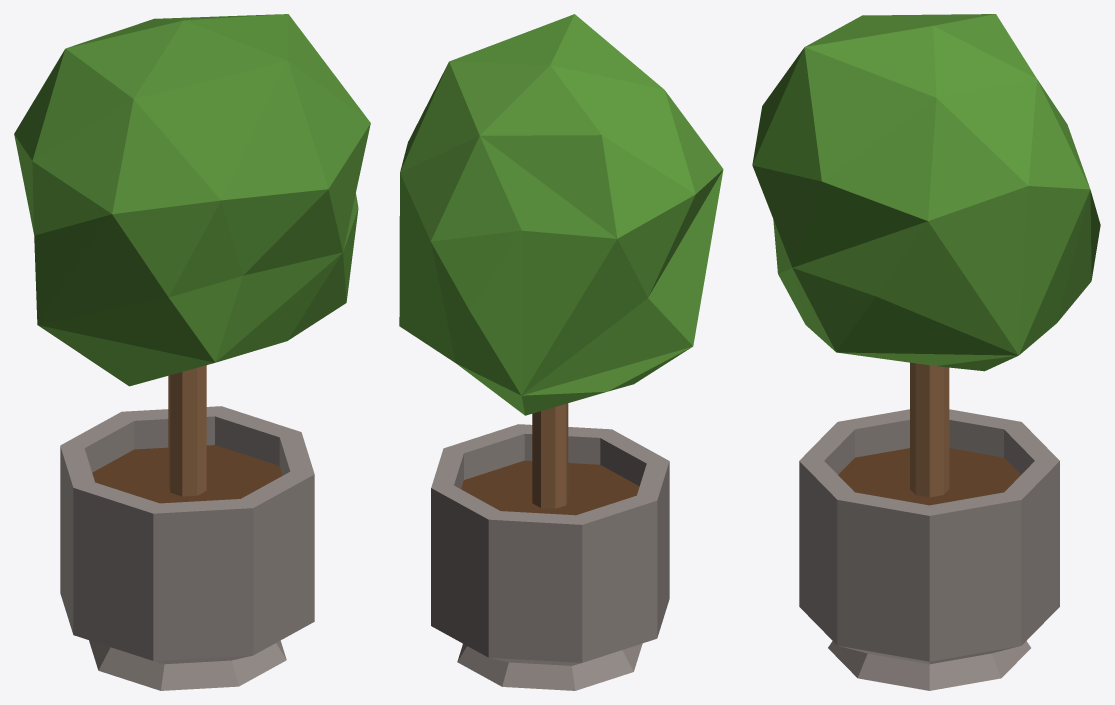
Rendered from Flower_02.fbx.
3 views of the same model, side by side, from view 1: azimuth 30°, elevation 25°; view 2: azimuth 150°, elevation 25°; view 3: azimuth 270°, elevation 25° (orthographic). The views are drawn at different scales.
Parts seen in each view (by area): view 1: Flower_02; view 2: Flower_02; view 3: Flower_02.
Boxes of the visible parts, <box> form: Flower_02: <box>14,14,370,690</box>; Flower_02: <box>399,14,723,690</box>; Flower_02: <box>752,14,1100,690</box>.
Bounding box in the file's own units: 1.21 × 2.37 × 1.2.
